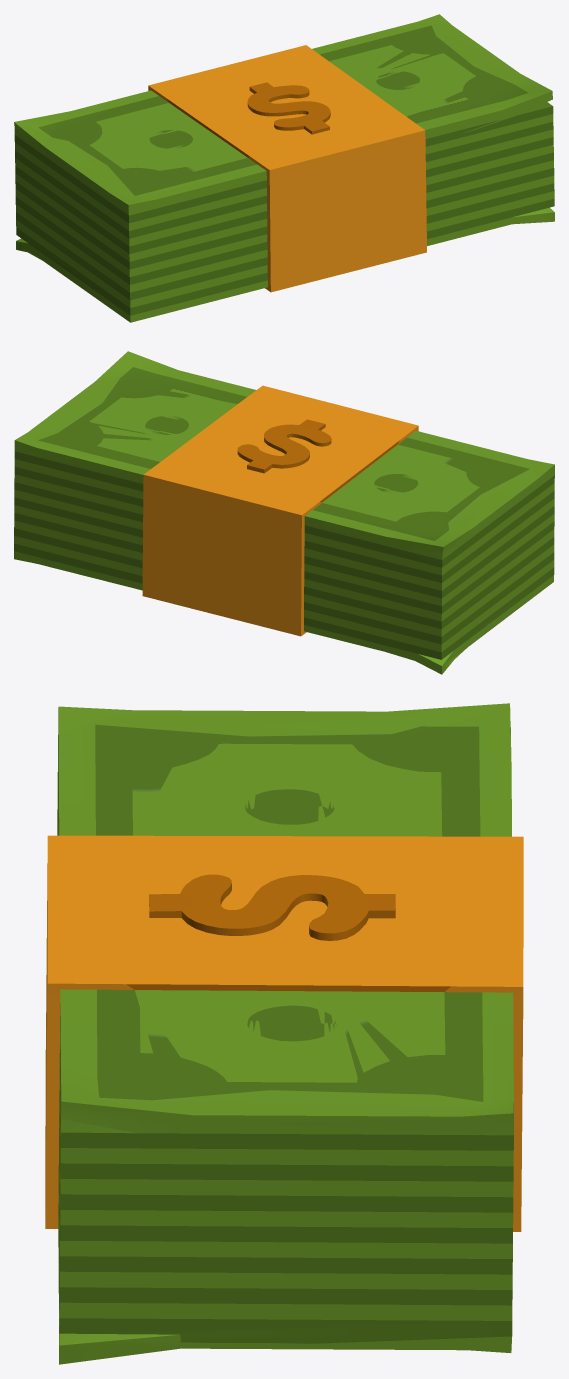
The model's file is Dollar.gltf.
The picture shows the model from 3 angles, top to bottom: view 1: azimuth 30°, elevation 25°; view 2: azimuth 150°, elevation 25°; view 3: azimuth 270°, elevation 25°; orthographic projection. The views are drawn at different scales.
Visible parts, largest first — view 1: Dollar; view 2: Dollar; view 3: Dollar.
Boxes of the visible parts, <box> form: Dollar: <box>14,14,554,322</box>; Dollar: <box>14,351,554,674</box>; Dollar: <box>45,703,523,1364</box>.
Size of the model in its own units: 1.2 by 0.3664 by 0.5796.
1 material, 1 textured.
